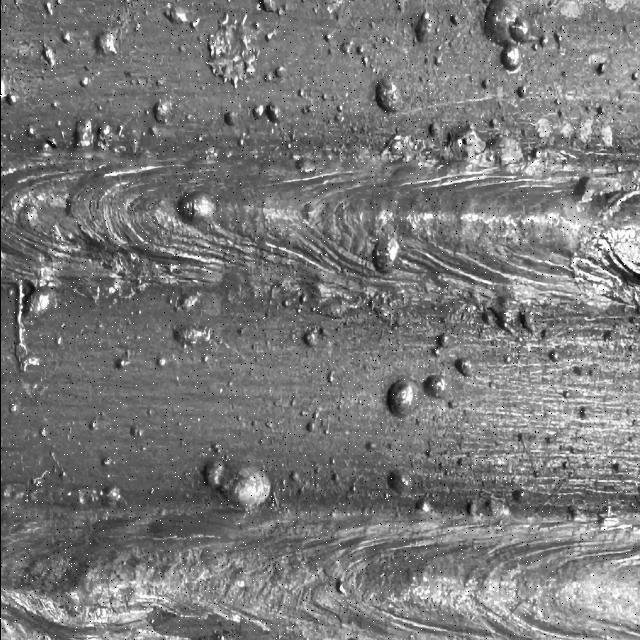Excess Reinforcement: (513, 148, 640, 180), (442, 127, 525, 172), (14, 282, 39, 372), (22, 268, 59, 317), (490, 298, 535, 333), (380, 135, 425, 162), (368, 295, 405, 327), (67, 485, 122, 505), (316, 297, 358, 318), (484, 498, 509, 520)
Spatters: (219, 462, 270, 508), (484, 0, 519, 47), (386, 378, 418, 418), (178, 192, 215, 223), (371, 237, 399, 273), (375, 78, 401, 113), (172, 327, 210, 347), (202, 458, 224, 488), (500, 43, 521, 73), (422, 375, 449, 398), (415, 12, 435, 43), (509, 15, 530, 43), (388, 470, 411, 495), (73, 118, 92, 148), (95, 30, 116, 55), (153, 98, 171, 125), (164, 5, 189, 23), (454, 358, 474, 377), (264, 65, 285, 83), (97, 123, 111, 150), (301, 203, 319, 223), (179, 294, 198, 312), (265, 103, 280, 123), (31, 470, 48, 487), (302, 329, 318, 347), (42, 45, 55, 67), (115, 350, 129, 370), (415, 498, 431, 515), (259, 0, 276, 13), (335, 578, 346, 597), (511, 488, 525, 502), (222, 112, 235, 127), (275, 3, 288, 17), (530, 148, 545, 160), (437, 333, 449, 348), (466, 500, 476, 517), (251, 105, 264, 118), (4, 93, 16, 107), (129, 425, 142, 437), (602, 330, 615, 342), (100, 457, 114, 467), (595, 62, 605, 75), (579, 407, 589, 420), (516, 85, 526, 98), (189, 17, 199, 30), (611, 320, 621, 333), (439, 312, 449, 325), (549, 348, 558, 362), (264, 31, 275, 42), (449, 15, 459, 27), (44, 0, 52, 15), (172, 297, 180, 312), (25, 127, 35, 138), (611, 462, 621, 473), (480, 78, 489, 90), (432, 55, 441, 67), (540, 328, 549, 340), (306, 420, 314, 433), (79, 77, 89, 87), (365, 442, 375, 452), (148, 127, 158, 137), (431, 347, 441, 357), (61, 32, 70, 43), (327, 370, 334, 383), (539, 35, 546, 48), (156, 357, 165, 367), (289, 470, 298, 480), (89, 420, 98, 430), (545, 436, 555, 445), (502, 355, 511, 365), (299, 293, 306, 305), (631, 70, 638, 82), (9, 404, 18, 413), (296, 88, 304, 98), (382, 37, 392, 45), (561, 460, 569, 470), (330, 472, 338, 482), (356, 45, 364, 55), (6, 287, 14, 297), (318, 328, 326, 338), (554, 32, 561, 43), (237, 328, 245, 337), (324, 33, 331, 43), (252, 22, 259, 32), (312, 410, 319, 420), (50, 100, 58, 108), (562, 390, 570, 398), (304, 105, 312, 113), (281, 300, 289, 308), (532, 470, 540, 478), (424, 448, 431, 457), (185, 113, 192, 122), (531, 43, 538, 52), (435, 23, 440, 35), (362, 57, 368, 67), (369, 20, 375, 30), (134, 22, 140, 32), (39, 428, 45, 438), (264, 420, 271, 428), (202, 355, 209, 363), (59, 470, 66, 478), (49, 450, 55, 459), (178, 45, 185, 52), (139, 445, 146, 452), (448, 402, 456, 408), (146, 408, 151, 417), (196, 135, 202, 142), (628, 345, 634, 352), (337, 105, 342, 113), (56, 337, 61, 345), (251, 420, 256, 428), (167, 297, 172, 305), (559, 24, 565, 30), (329, 458, 334, 465), (554, 98, 559, 105), (323, 428, 328, 435), (236, 415, 241, 422), (55, 120, 60, 127), (626, 408, 631, 415), (629, 317, 634, 323), (144, 110, 149, 115), (433, 305, 438, 310), (227, 382, 232, 387), (517, 337, 521, 343), (437, 45, 441, 50), (141, 132, 145, 137), (177, 422, 181, 427), (296, 308, 300, 313), (311, 307, 315, 312), (137, 310, 140, 315)
